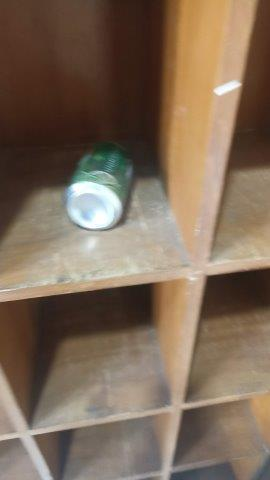kaleng: (65, 143, 136, 229)
